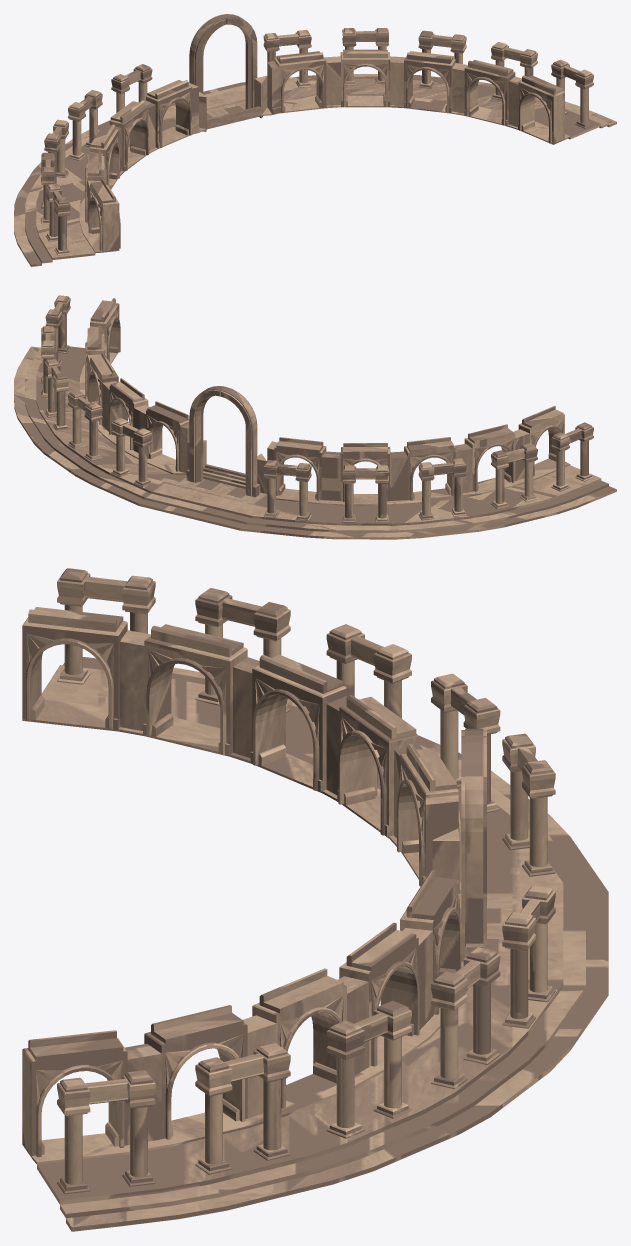
The model's file is entrance.fbx.
3 renders of one model, top to bottom at view 1: azimuth 30°, elevation 25°; view 2: azimuth 150°, elevation 25°; view 3: azimuth 270°, elevation 25°, orthographic. The views are drawn at different scales.
Visible parts, largest first — view 1: entrance; view 2: entrance; view 3: entrance.
Part boxes in pixels (<box>): entrance: <box>14,14,616,266</box>; entrance: <box>14,295,616,539</box>; entrance: <box>22,568,608,1231</box>.
Bounding box in the file's own units: 2796 × 480 × 1211.
